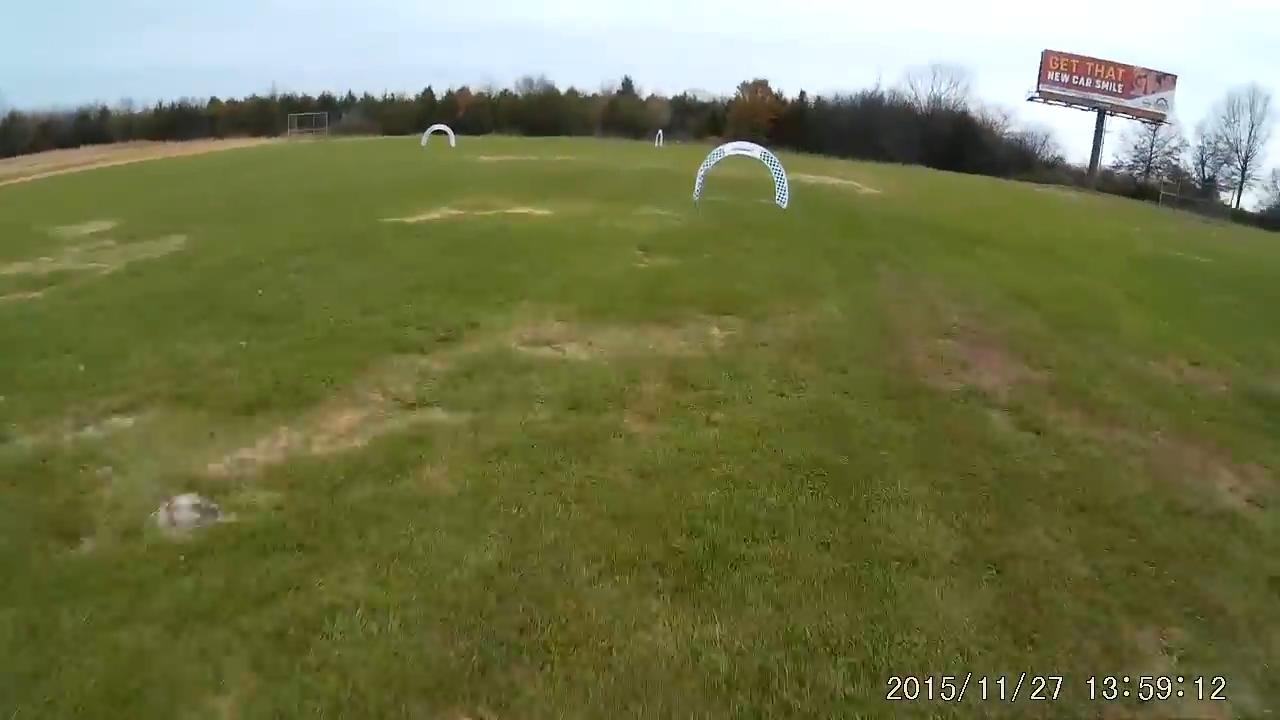gate: (690, 139, 790, 210)
